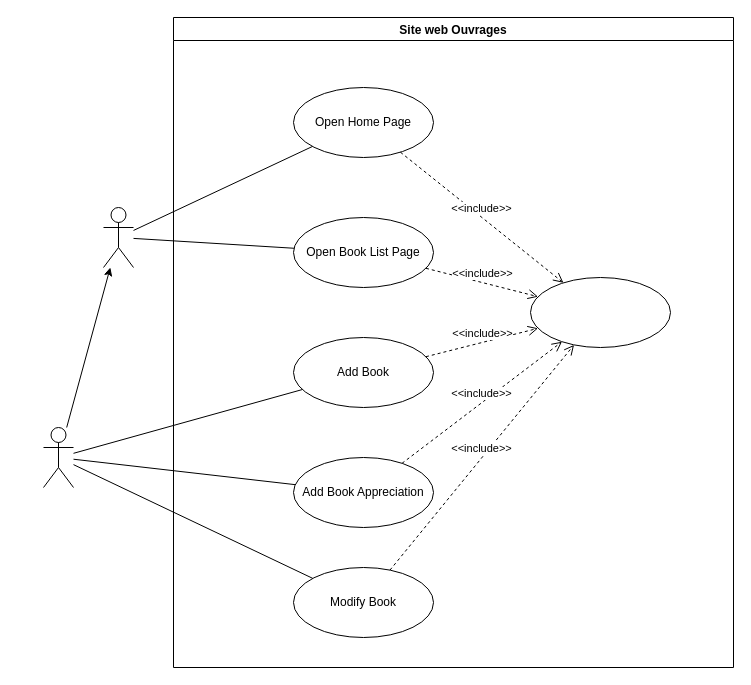
This 751x685 diagram has some shape labels left out. The box of each missing label's shape, as (x1, y1, x2, y2) in pixels:
RegisteredUser: (42, 426, 74, 488)
Request Database: (530, 276, 670, 348)
User: (102, 206, 134, 268)
